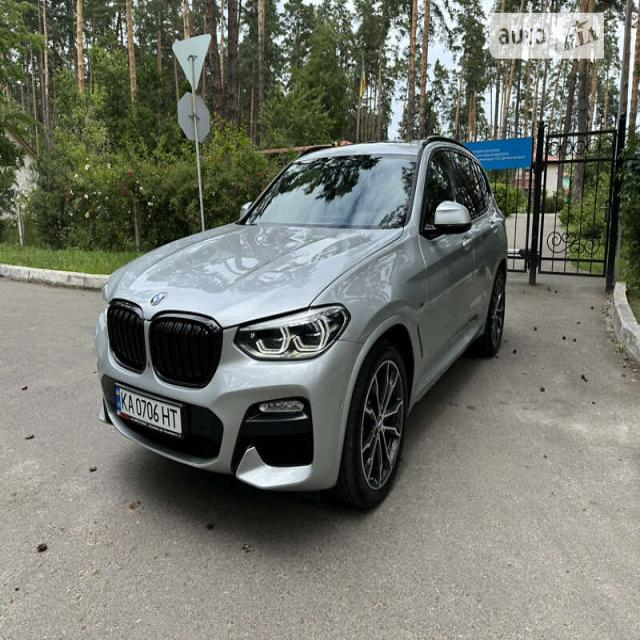plate: (112, 382, 196, 443)
